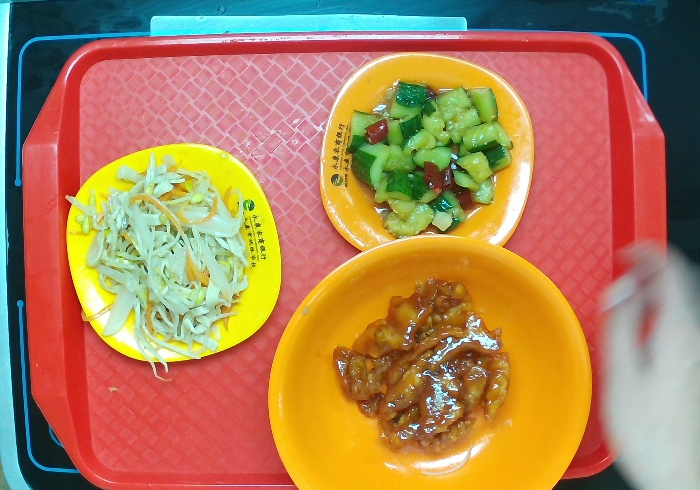YKMZ-Huang_Se_Fang_Die: (63, 142, 284, 364)
YKMZ-Ju_Se_Fang_Die: (316, 49, 534, 255)
YKMZ-Ju_Se_Tang_Wan: (266, 230, 596, 490)
